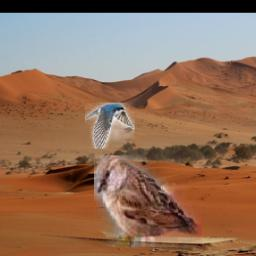Sparrow: (95, 155, 203, 247)
Swallow: (85, 104, 135, 149)
